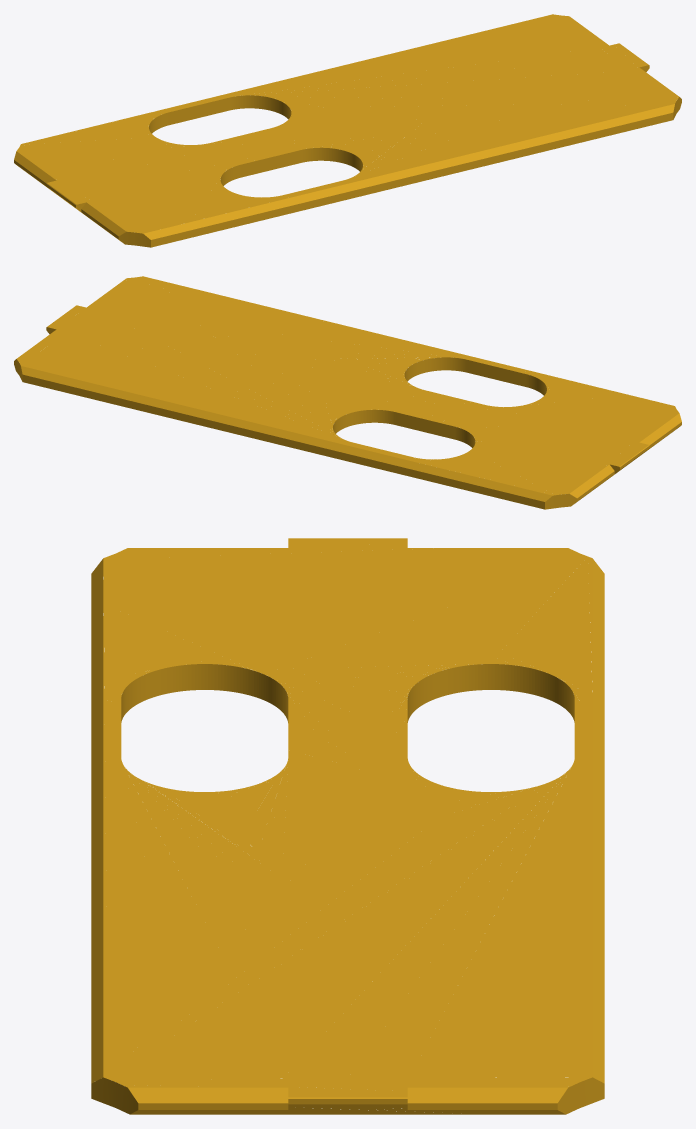
Rendered from asinma-atlas-copco-mb-1000-hm-680-03.glb.
The picture shows the model from 3 angles, top to bottom: view 1: azimuth 30°, elevation 25°; view 2: azimuth 150°, elevation 25°; view 3: azimuth 270°, elevation 25°; orthographic projection. The views are drawn at different scales.
Visible parts, largest first — view 1: body; view 2: body; view 3: body.
Part boxes in pixels (x1,y1,x2,y2): body: (14,14,681,247); body: (14,276,681,509); body: (91,538,604,1114).
Size of the model in its own units: 0.555 by 0.012 by 0.215.
